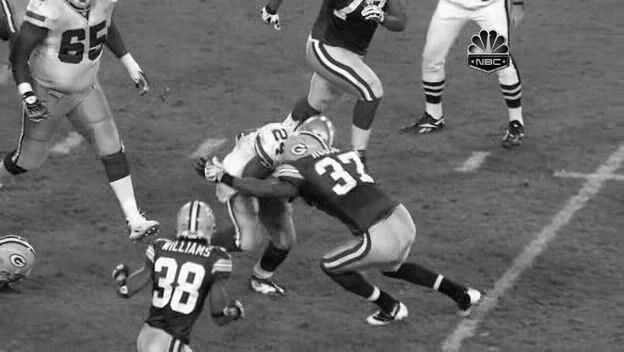person: (297, 116, 331, 160), (296, 116, 330, 160), (298, 116, 332, 160), (297, 115, 331, 159), (297, 117, 331, 161)
target_negative: (278, 89, 419, 248), (279, 67, 605, 132), (542, 57, 570, 274), (19, 248, 294, 256), (88, 36, 513, 41), (492, 24, 534, 34)
